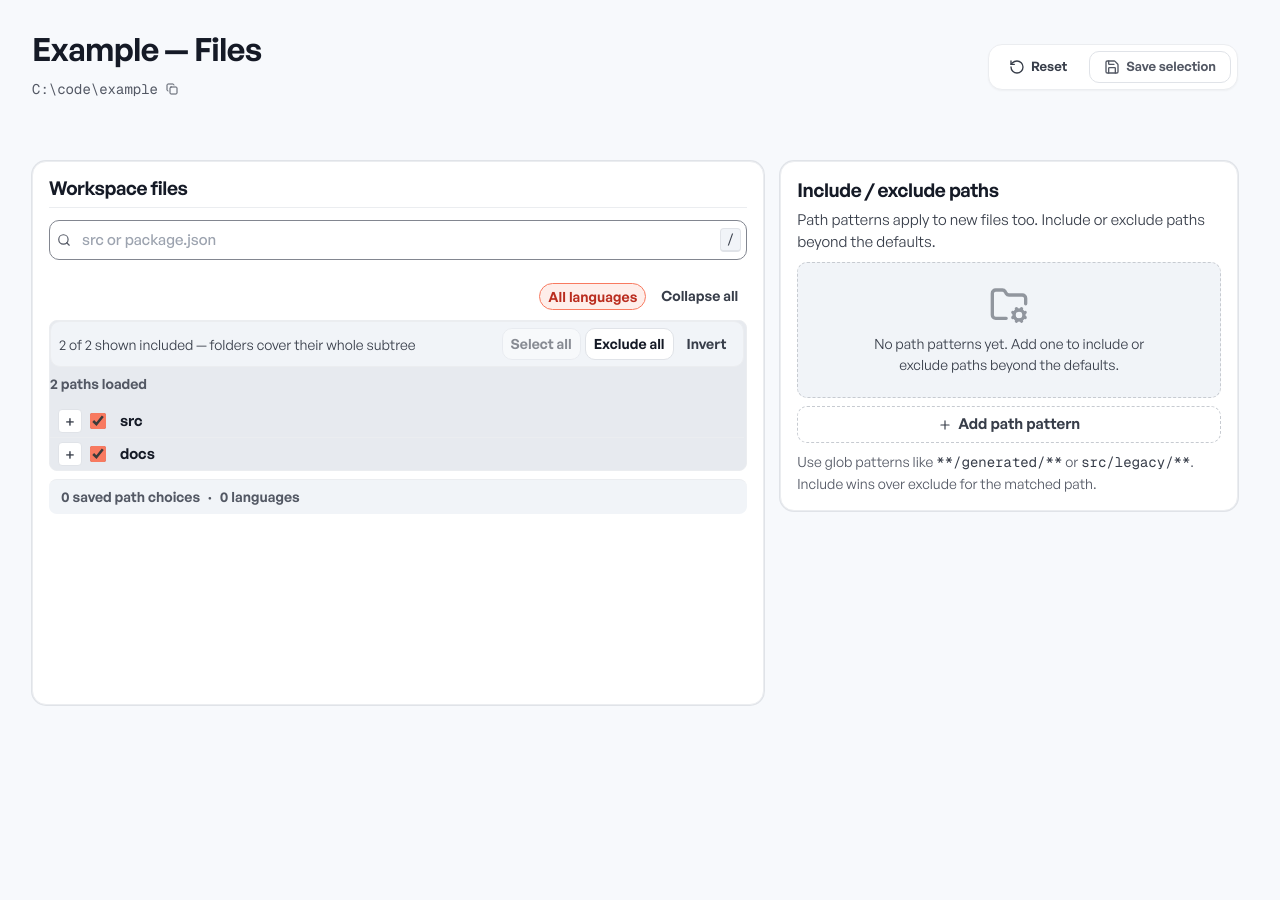
FilesPage tree search › marks failed child loads inline and retries them
Step 1. Click the 1st button "+" → (70, 421), box top-left (58, 409), bottom-right (82, 433)
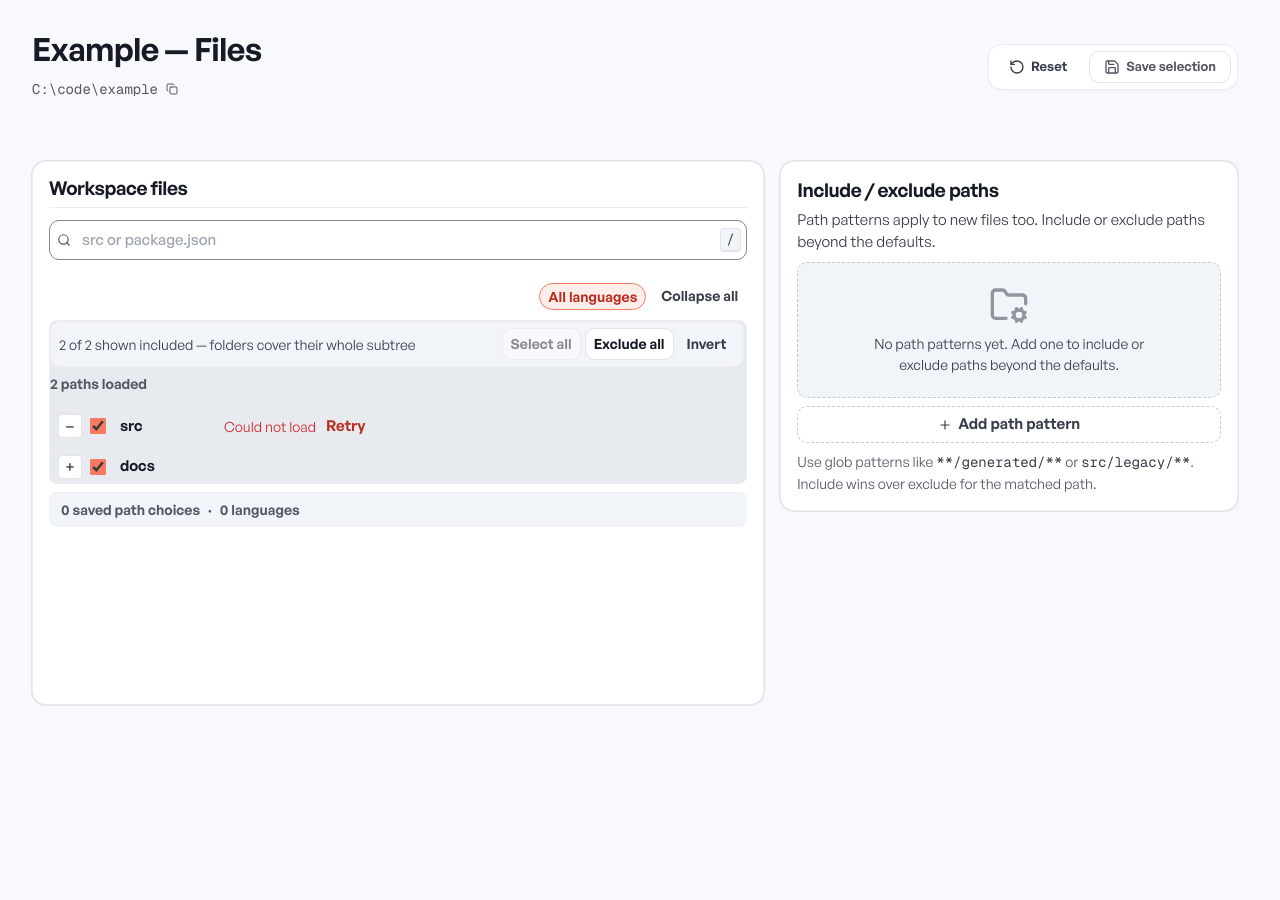
Check: the text "Could not load" is shown, box top-left (224, 418), bottom-right (316, 435)
Check: the button "Retry" is shown
Step 2. Click the button "Retry" → (346, 426), box top-left (320, 409), bottom-right (371, 444)
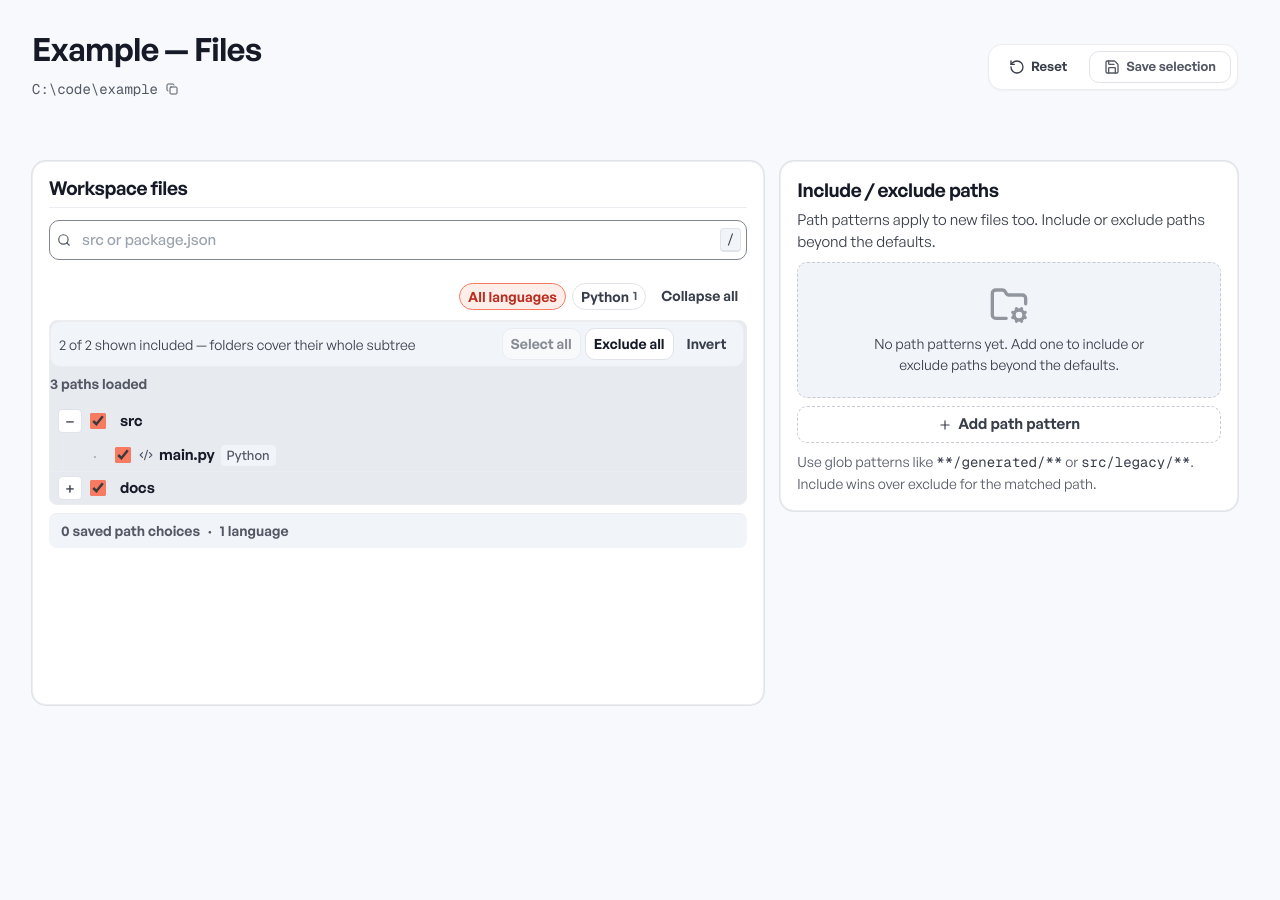
Check: the text "Could not load" is gone
